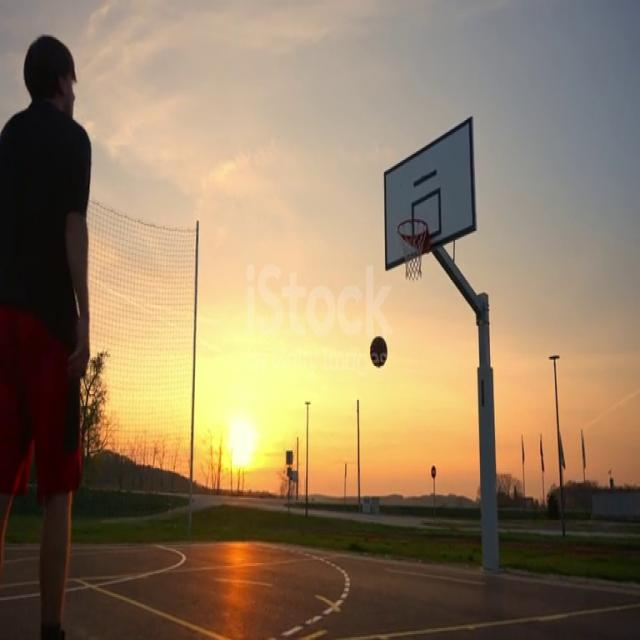ball: (369, 335, 388, 367)
